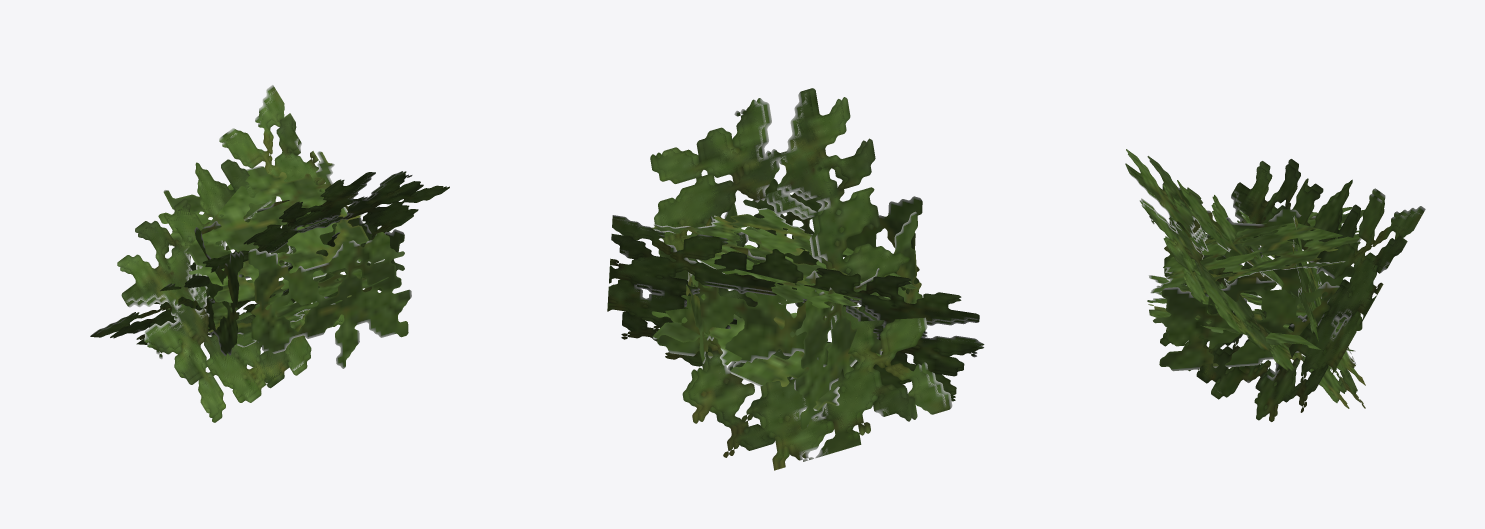
Rendered from beech_leaves_slab_upper.obj.
The picture shows the model from 3 angles, left to right: view 1: azimuth 30°, elevation 25°; view 2: azimuth 150°, elevation 25°; view 3: azimuth 270°, elevation 25°; orthographic projection. The views are drawn at different scales.
Parts seen in each view (by area): view 1: cube; view 2: cube; view 3: cube.
Boxes of the visible parts, <box> form: cube: <box>90,85,449,422</box>; cube: <box>607,88,984,470</box>; cube: <box>1125,149,1425,421</box>.
Size of the model in its own units: 2.99 by 2.22 by 2.1.
